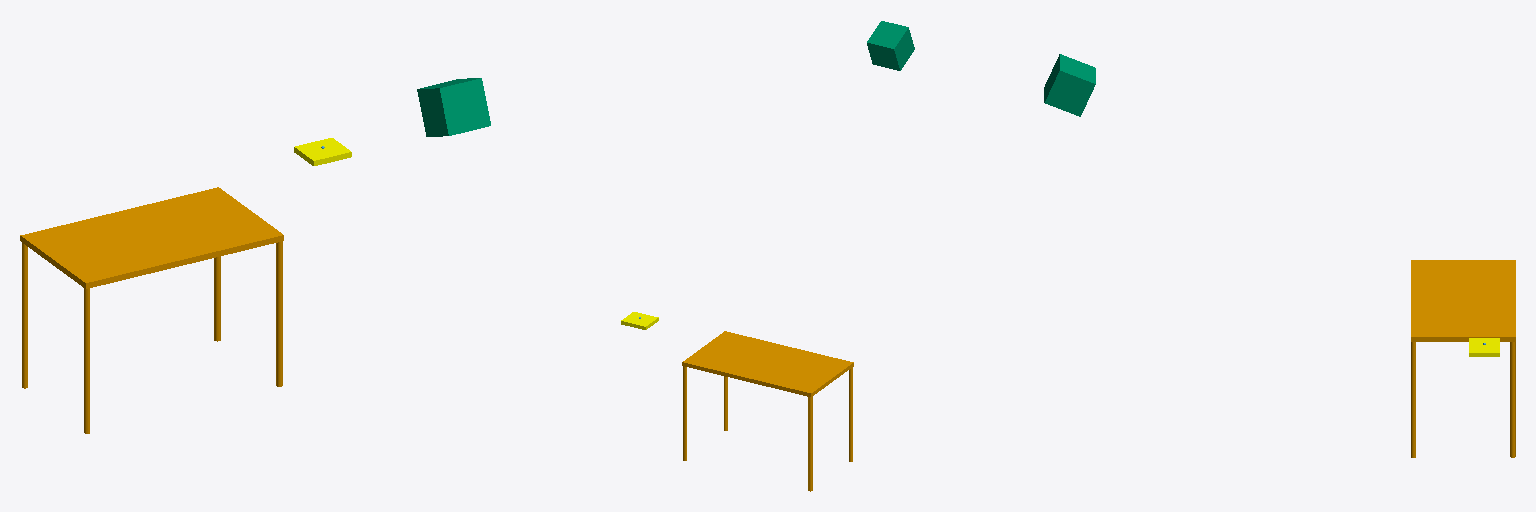
robot.urdf — ur10:
<?xml version="1.0" ?>
<robot name="ur10">
  <link name="table__link">
    <inertial>
      <mass value="1"/>
      <origin rpy="0  0  0" xyz="0  0  0"/>
      <inertia ixx="1" ixy="0" ixz="0" iyy="1" iyz="0" izz="1"/>
    </inertial>
    <collision name="table__surface">
      <origin rpy="0  0  0" xyz="0  0  1"/>
      <geometry>
        <box size="1.5 0.8 0.03"/>
      </geometry>
    </collision>
    <collision name="table__front_left_leg">
      <origin rpy="0  0  0" xyz="0.68  0.38  0.5"/>
      <geometry>
        <cylinder length="1" radius="0.02"/>
      </geometry>
    </collision>
    <collision name="table__front_right_leg">
      <origin rpy="0  0  0" xyz="0.68 -0.38  0.5"/>
      <geometry>
        <cylinder length="1" radius="0.02"/>
      </geometry>
    </collision>
    <collision name="table__back_right_leg">
      <origin rpy="0  0  0" xyz="-0.68 -0.38  0.5"/>
      <geometry>
        <cylinder length="1" radius="0.02"/>
      </geometry>
    </collision>
    <collision name="table__back_left_leg">
      <origin rpy="0  0  0" xyz="-0.68  0.38  0.5"/>
      <geometry>
        <cylinder length="1" radius="0.02"/>
      </geometry>
    </collision>
    <visual>
      <origin rpy="0  0  0" xyz="0  0  1"/>
      <geometry>
        <box size="1.4 0.8 0.04"/>
      </geometry>
    </visual>
    <visual name="table__front_left_leg">
      <origin rpy="0  0  0" xyz="0.68  0.38  0.5"/>
      <geometry>
        <cylinder length="1" radius="0.02"/>
      </geometry>
    </visual>
    <visual name="table__front_right_leg">
      <origin rpy="0  0  0" xyz="0.68 -0.38  0.5"/>
      <geometry>
        <cylinder length="1" radius="0.02"/>
      </geometry>
    </visual>
    <visual name="table__back_right_leg">
      <origin rpy="0  0  0" xyz="-0.68 -0.38  0.5"/>
      <geometry>
        <cylinder length="1" radius="0.02"/>
      </geometry>
    </visual>
    <visual name="table__back_left_leg">
      <origin rpy="0  0  0" xyz="-0.68  0.38  0.5"/>
      <geometry>
        <cylinder length="1" radius="0.02"/>
      </geometry>
    </visual>
  </link>
  <gazebo reference="table__link">
      <material>Gazebo/Wood</material>
      <selfCollide>true</selfCollide>
   </gazebo>
  <gazebo reference="table__front_left_leg"> <material>Gazebo/Wood</material> </gazebo>

  <joint name="ur10__shoulder_pan" type="revolute">
    <parent link="ur10__base"/>
    <child link="ur10__shoulder"/>
    <origin rpy="0  0  0" xyz="0      0      0.1273"/>
    <axis xyz="0  0  1"/>
    <limit effort="33000.0" lower="-6.28319" upper="6.28319" velocity="2.16"/>
  </joint>
  <joint name="ur10__shoulder_lift" type="revolute">
    <parent link="ur10__shoulder"/>
    <child link="ur10__upper_arm"/>
    <origin rpy="3.14159  1.57079  3.14159" xyz="0       0.22094  0"/>
    <axis xyz="0  1  0"/>
    <limit effort="33000.0" lower="-6.28319" upper="6.28319" velocity="5.16"/>
  </joint>
  <joint name="ur10__elbow" type="revolute">
    <parent link="ur10__upper_arm"/>
    <child link="ur10__forearm"/>
    <origin rpy="0  0  0" xyz="0     -0.1719  0.612"/>
    <axis xyz="0  1  0"/>
    <limit effort="1500000.0" lower="-6.28319" upper="6.28319" velocity="3.15"/>
  </joint>
  <joint name="ur10__wrist_1_joint" type="revolute">
    <parent link="ur10__forearm"/>
    <child link="ur10__wrist_1"/>
    <origin rpy="0  0  0" xyz="0      0      0.5723"/>
    <axis xyz="0  1  0"/>
    <limit effort="54.0" lower="-6.28319" upper="6.28319" velocity="3.2"/>
  </joint>
  <joint name="ur10__wrist_2_joint" type="revolute">
    <parent link="ur10__wrist_1"/>
    <child link="ur10__wrist_2"/>
    <origin rpy="0  0  1.57079" xyz="0      0.1149  0"/>
    <axis xyz="0  0  1"/>
    <limit effort="54.0" lower="-6.28319" upper="6.28319" velocity="3.2"/>
  </joint>
  <joint name="ur10__wrist_3_joint" type="revolute">
    <parent link="ur10__wrist_2"/>
    <child link="ur10__wrist_3"/>
    <origin rpy="0  0  0" xyz="0      0      0.1157"/>
    <axis xyz="0  1  0"/>
    <limit effort="54.0" lower="-6.28319" upper="6.28319" velocity="3.2"/>
  </joint>
  <link name="ur10__base">
    <inertial>
      <mass value="4"/>
      <origin rpy="0  0  0" xyz="0  0  0"/>
      <inertia ixx="0.00610633" ixy="0" ixz="0" iyy="0.00610633" iyz="0" izz="0.01125"/>
    </inertial>
    <collision name="ur10__collision">
      <origin rpy="0  0  0" xyz="0     0     0.019"/>
      <geometry>
        <cylinder length="0.038" radius="0.075"/>
      </geometry>
    </collision>
    <visual name="ur10__visual">
      <origin rpy="0  0  0" xyz="0  0  0"/>
      <geometry>
        <mesh filename="file://meshes/base.dae" scale="1.0 1.0 1.0"/>
      </geometry>
    </visual>
  </link>
<!--  <gazebo reference="ur10__base"> <selfCollide>true</selfCollide></gazebo> -->
  <link name="ur10__shoulder">
    <inertial>
      <mass value="7.778"/>
      <origin rpy="0  0  0" xyz="0  0  0"/>
      <inertia ixx="0.0314743" ixy="0" ixz="0" iyy="0.0314743" iyz="0" izz="0.0218756"/>
    </inertial>
    <collision name="ur10__collision">
      <origin rpy="0  0  0" xyz="0  0  0"/>
      <geometry>
        <cylinder length="0.177" radius="0.075"/>
      </geometry>
    </collision>
    <visual name="ur10__visual">
      <origin rpy="0  0  0" xyz="0  0  0"/>
      <geometry>
        <mesh filename="file://meshes/shoulder.dae" scale="1.0 1.0 1.0"/>
      </geometry>
    </visual>
  </link>
<gazebo reference="ur10__shoulder"> <selfCollide>true</selfCollide></gazebo>
  <link name="ur10__upper_arm">
    <inertial>
      <mass value="12.93"/>
      <origin rpy="0  0  0" xyz="0     0     0.306"/>
      <inertia ixx="0.421754" ixy="0" ixz="0" iyy="0.421754" iyz="0" izz="0.0363656"/>
    </inertial>
    <collision name="ur10__collision1">
      <origin rpy="1.5707  0      0" xyz="0    -0.045  0"/>
      <geometry>
        <cylinder length="0.177" radius="0.075"/>
      </geometry>
    </collision>
    <collision name="ur10__collision2">
      <origin rpy="0      0      1.5707" xyz="0     -0.0436  0.32"/>
      <geometry>
        <cylinder length="0.461" radius="0.058"/>
      </geometry>
    </collision>
    <collision name="ur10__collision3">
      <origin rpy="1.5707  0      0" xyz="0    -0.04   0.613"/>
      <geometry>
        <cylinder length="0.129" radius="0.058"/>
      </geometry>
    </collision>
    <visual name="ur10__visual">
      <origin rpy="0  0  0" xyz="0  0  0"/>
      <geometry>
        <mesh filename="file://meshes/upperarm.dae" scale="1.0 1.0 1.0"/>
      </geometry>
    </visual>
  </link>
  <gazebo reference="ur10__upper_arm"><selfCollide>true</selfCollide></gazebo>
  <link name="ur10__forearm">
    <inertial>
      <mass value="3.87"/>
      <origin rpy="0  0  0" xyz="0       0       0.28615"/>
      <inertia ixx="0.11107" ixy="0" ixz="0" iyy="0.11107" iyz="0" izz="0.0108844"/>
    </inertial>
    <collision name="ur10__collision1">
      <origin rpy="1.5707  0      0" xyz="0     0     0.001"/>
      <geometry>
        <cylinder length="0.136" radius="0.058"/>
      </geometry>
    </collision>
    <collision name="ur10__collision2">
      <origin rpy="0      0      1.5707" xyz="0     0     0.305"/>
      <geometry>
        <cylinder length="0.447" radius="0.045"/>
      </geometry>
    </collision>
    <collision name="ur10__collision3">
      <origin rpy="1.5707  0      0" xyz="0      0.001   0.5735"/>
      <geometry>
        <cylinder length="0.119" radius="0.045"/>
      </geometry>
    </collision>
    <visual name="ur10__visual">
      <origin rpy="0  0  0" xyz="0  0  0"/>
      <geometry>
        <mesh filename="file://meshes/forearm.dae" scale="1.0 1.0 1.0"/>
      </geometry>
    </visual>
  </link>
<gazebo reference="ur10__forearm"><selfCollide>true</selfCollide></gazebo>
  <link name="ur10__wrist_1">
    <inertial>
      <mass value="1.96"/>
      <origin rpy="0  0  0" xyz="0  0  0"/>
      <inertia ixx="0.00510825" ixy="0" ixz="0" iyy="0.00510825" iyz="0" izz="0.0055125"/>
    </inertial>
    <collision name="ur10__collision">
      <origin rpy="0  0  0" xyz="0      0.115   0.0025"/>
      <geometry>
        <cylinder length="0.119" radius="0.0455"/>
      </geometry>
    </collision>
    <visual name="ur10__visual">
      <origin rpy="0  0  0" xyz="0  0  0"/>
      <geometry>
        <mesh filename="file://meshes/wrist1.dae" scale="1.0 1.0 1.0"/>
      </geometry>
    </visual>
  </link>
<gazebo reference="ur10__wrist_1"><selfCollide>true</selfCollide></gazebo>
  <link name="ur10__wrist_2">
    <inertial>
      <mass value="1.96"/>
      <origin rpy="0  0  0" xyz="0  0  0"/>
      <inertia ixx="0.00510825" ixy="0" ixz="0" iyy="0.00510825" iyz="0" izz="0.0055125"/>
    </inertial>
    <collision name="ur10__collision">
      <origin rpy="1.5707  0      0" xyz="0       0.002    0.11659"/>
      <geometry>
        <cylinder length="0.119" radius="0.0455"/>
      </geometry>
    </collision>
    <visual name="ur10__visual">
      <origin rpy="0  0  0" xyz="0  0  0"/>
      <geometry>
        <mesh filename="file://meshes/wrist2.dae" scale="1.0 1.0 1.0"/>
      </geometry>
    </visual>
  </link>
  <gazebo reference="ur10__wrist_2"><selfCollide>true</selfCollide></gazebo>
  <link name="ur10__wrist_3">
    <inertial>
      <mass value="0.202"/>
      <origin rpy="0  0  0" xyz="0  0  0"/>
      <inertia ixx="0.000526462" ixy="0" ixz="0" iyy="0.000526462" iyz="0" izz="0.000568125"/>
    </inertial>
    <collision name="ur10__collision">
      <origin rpy="0  0      0" xyz="0 0  0"/>
      <!--<origin rpy="1.5707  0      0" xyz="0      0.0765  0"/>-->
      <geometry>
        <cylinder length="0.031" radius="0.045"/>
      </geometry>
    </collision>
    <visual name="ur10__visual">
      <origin rpy="0  0  0" xyz="0  0  0"/>
      <geometry>
        <mesh filename="file://meshes/wrist3.dae" scale="1.0 1.0 1.0"/>
      </geometry>
    </visual>
  </link>
  <gazebo reference="ur10__wrist_3"><selfCollide>true</selfCollide></gazebo>
  <joint name="ur10__table" type="fixed">
    <parent link="table__link"/>
    <child link="ur10__base"/>
    <origin rpy="0  0  0" xyz="0 0 1"/>
  </joint>
  <link name="ur10__tray">
    <inertial>
      <mass value="0.00241023"/>
      <origin rpy="0  0 0" xyz="0 0 0"/>
      <inertia ixx="1.48619e-05" ixy="0" ixz="0" iyy="1.19312e-05" iyz="0" izz="2.62393e-05"/>
    </inertial>
    <collision name="ur10__tray__collision">
      <origin rpy="0  0 0" xyz="0 0 0"/>
      <geometry>
        <box size="0.240883 0.037137 0.269476"/>
      </geometry>
    </collision>
    <visual>
      <origin rpy="0  0 0" xyz="0 0 0"/>
      <geometry>
        <box size="0.240883 0.037137 0.269476"/>
      </geometry>
      <material name="yellow">
        <color rgba="1 1 0 1"/>
      </material>
    </visual>
  </link>
  <gazebo reference="ur10__tray">
      <material>Gazebo/Wood</material>
      <selfCollide>true</selfCollide>
   </gazebo>
  <joint name="ur10__wrist_3_tray_joint" type="fixed">
    <parent link="ur10__wrist_3"/>
    <child link="ur10__tray"/>
    <origin rpy="0  0 0" xyz="0 0.085 0"/>
    <axis xyz="0  0  0"/>
    <limit effort="0" lower="0" upper="0" velocity="0"/>
  </joint>

  <link name="ball">
    <inertial>
      <mass value="0.01"/>
      <origin rpy="0  0  0" xyz="0 0 0"/>
      <inertia ixx="0.000010" ixy="0.000000" ixz="0.000000" iyy="0.000010" iyz="0.000000" izz="0.000010"/>
    </inertial>
    <collision name="ball__collision">
      <origin rpy="0  0  0" xyz="0 0 0"/>
      <geometry>
        <sphere radius="0.01"/>
      </geometry>
    </collision>
    <visual>
      <origin rpy="0  0  0" xyz="0 0 0"/>
      <geometry>
        <sphere radius="0.01"/>
      </geometry>
    </visual>
  </link>
  <gazebo reference="ball">
      <material>Gazebo/Red</material>
      <selfCollide>true</selfCollide>
  </gazebo>
  <joint name="ball_tray" type="floating">
    <parent link="ur10__tray"/>
    <child link="ball"/>
    <origin rpy="0  0  0" xyz="0 0.0285685 0"/>
  </joint>
  <link name="camera_link">
    <inertial>
      <mass value="0.1"/>
      <inertia ixx="1" ixy="0" ixz="0" iyy="1"  iyz="0" izz="1"/>
    </inertial>
    <collision name="collision">
      <geometry>
        <box size="0.3 0.3 0.3"/>
      </geometry>
      <max_contacts>10</max_contacts>
      <surface>
        <contact>
          <ode/>
        </contact>
        <bounce/>
        <friction>
          <ode/>
        </friction>
      </surface>
    </collision>
    <visual name="visual">
      <geometry>
        <box size="0.3 0.3 0.3"/>
      </geometry>
    </visual>
  </link>
  <gazebo reference="camera_link">
      <sensor name="world_camera" type="camera">
        <camera>
          <horizontal_fov>0.8</horizontal_fov>
          <image>
            <width>640</width>
            <height>640</height>
          </image>
          <clip>
            <near>0.1</near>
            <far>100</far>
          </clip>
          <distortion>
            <k1>-0.25</k1>
            <k2>0.12</k2>
            <k3>0.0</k3>
            <p1>-0.00028</p1>
            <p2>-0.00005</p2>
            <center>0.5 0.5</center>
          </distortion>
        </camera>
        <always_on>1</always_on>
        <update_rate>100</update_rate>
        <visualize>true</visualize>
        <topic>/image_raw</topic>
        <plugin name="camera_controller" filename="libgazebo_ros_sync_camera.so">
            <cameraName>world_camera</cameraName>
            <robotNamespace>/</robotNamespace>
        </plugin>
      </sensor>
  </gazebo>
  <joint name="fixed_camera" type="fixed">
    <origin xyz="0.4 -3 3.0" rpy="0 0.4 1.57079"/>
    <parent link="table__link"/>
    <child link="camera_link"/>
  </joint>

  <link name="world"/>
  <joint name="fixed" type="fixed">
    <parent link="world"/>
    <child link="table__link"/>
  </joint>
</robot>

--- What the picture shows (computed from the rendered views, not written in the file) ---
The picture shows the robot from 3 angles, left to right: view 1: azimuth 30°, elevation 25°; view 2: azimuth 150°, elevation 25°; view 3: azimuth 270°, elevation 25°; orthographic projection.
Model ur10 with 12 links and 11 joints (6 revolute, 4 fixed, 1 floating), rooted at world, posed every joint at zero.
Links seen in each view (by area): view 1: table__link, camera_link, ur10__tray; view 2: table__link, camera_link; view 3: table__link, camera_link, ur10__tray.
Boxes of the visible links, x1,y1,x2,y2 form: table__link: (20,187,283,433); camera_link: (417,78,490,136); ur10__tray: (294,138,351,165); table__link: (682,331,853,491); camera_link: (867,21,914,70); table__link: (1411,260,1515,457); camera_link: (1044,54,1095,116); ur10__tray: (1469,338,1499,356).
Bounding box of the posed robot: 2.13 × 3.6 × 3.2 m (x, y, z).
Geometry: only primitive shapes (box / cylinder / sphere) drawn; not drawn: 7 mesh visuals (reference in a form the renderer does not follow).